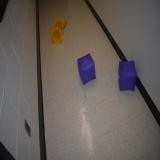cone: (50, 26, 62, 44), (54, 18, 67, 34)
cube: (118, 59, 138, 92), (76, 53, 96, 85)
